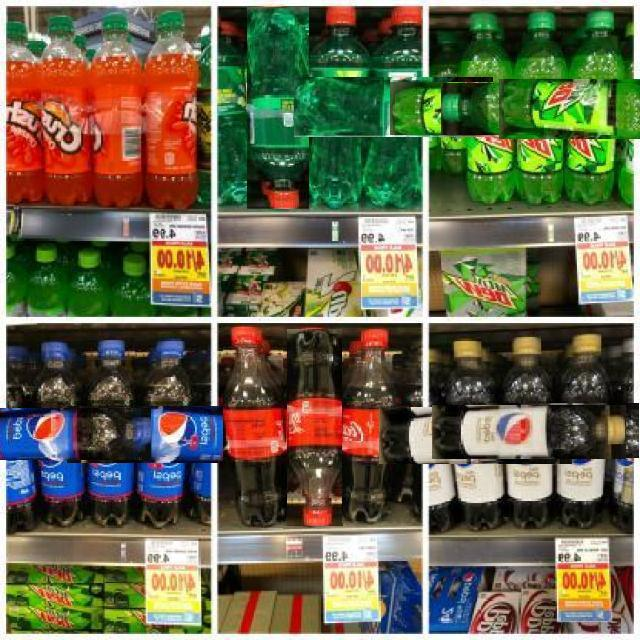Drinks: (246, 6, 309, 209), (309, 6, 370, 209), (223, 328, 283, 529), (293, 77, 493, 137), (286, 328, 343, 526), (67, 405, 259, 463), (342, 329, 399, 523), (378, 408, 572, 464), (431, 406, 626, 459), (389, 82, 584, 135), (442, 83, 636, 135), (84, 340, 135, 527), (485, 403, 640, 458), (498, 79, 640, 139), (0, 409, 151, 460)
